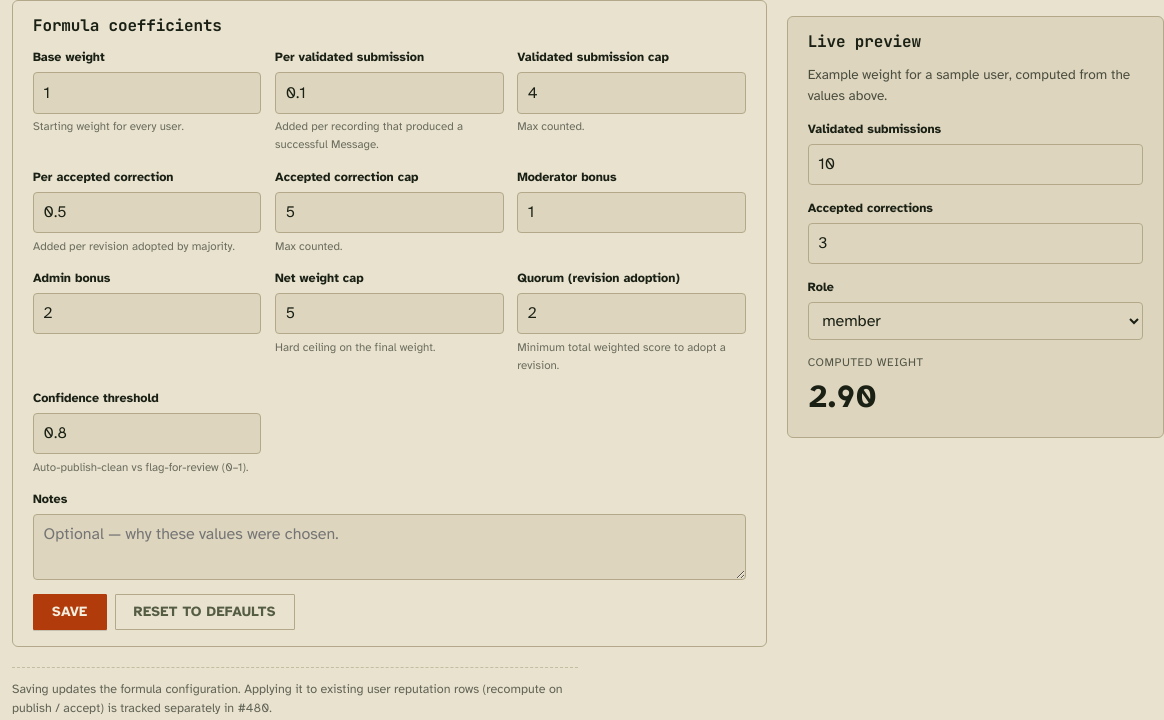
Test case: ReputationConfigEditor › blocks save and shows a field error on invalid input
Check: the number field labelled "Base weight" is shown, box [33, 72, 262, 114]
Replace the text in the number field labelled "Per validated submission" with "-1" at [389, 93], box [275, 72, 504, 114]
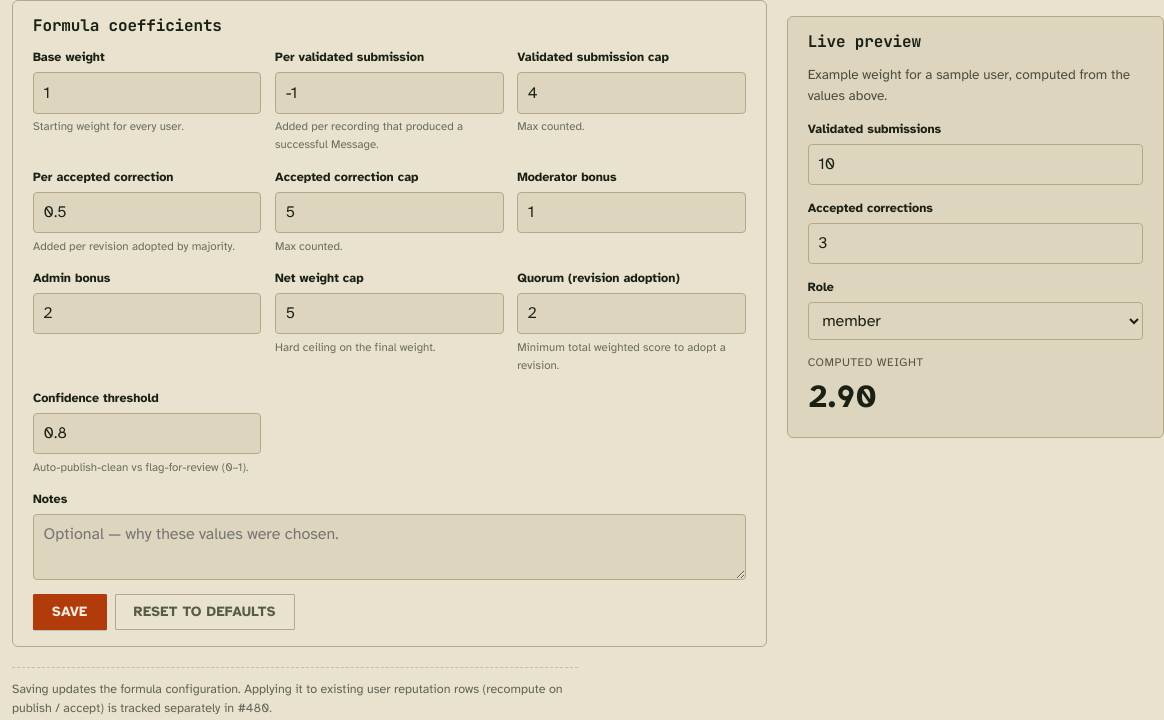
Click the button "Save".
click(70, 612)  # box [33, 594, 106, 630]
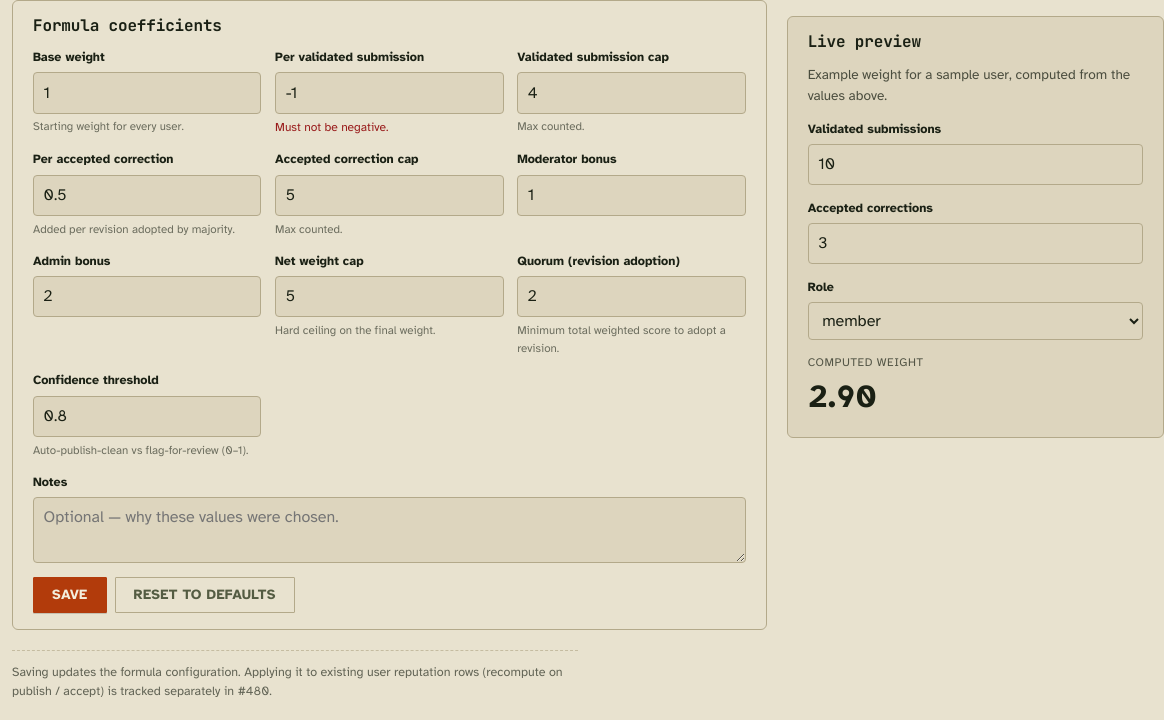
Check: the text "Must not be negative." is shown, box [275, 120, 389, 134]
